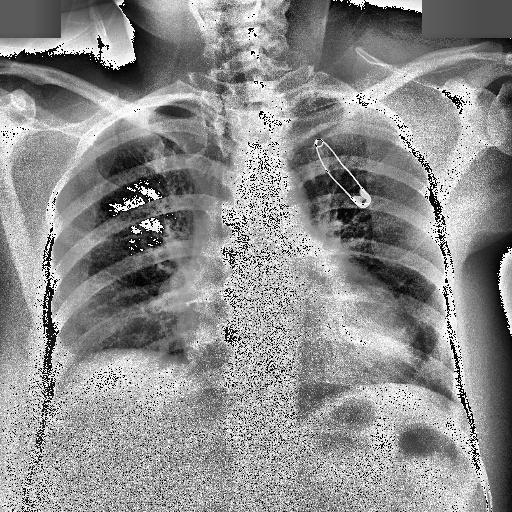3- Cardiomegaly: (178, 274, 410, 377), (180, 296, 422, 382), (178, 318, 416, 380)
